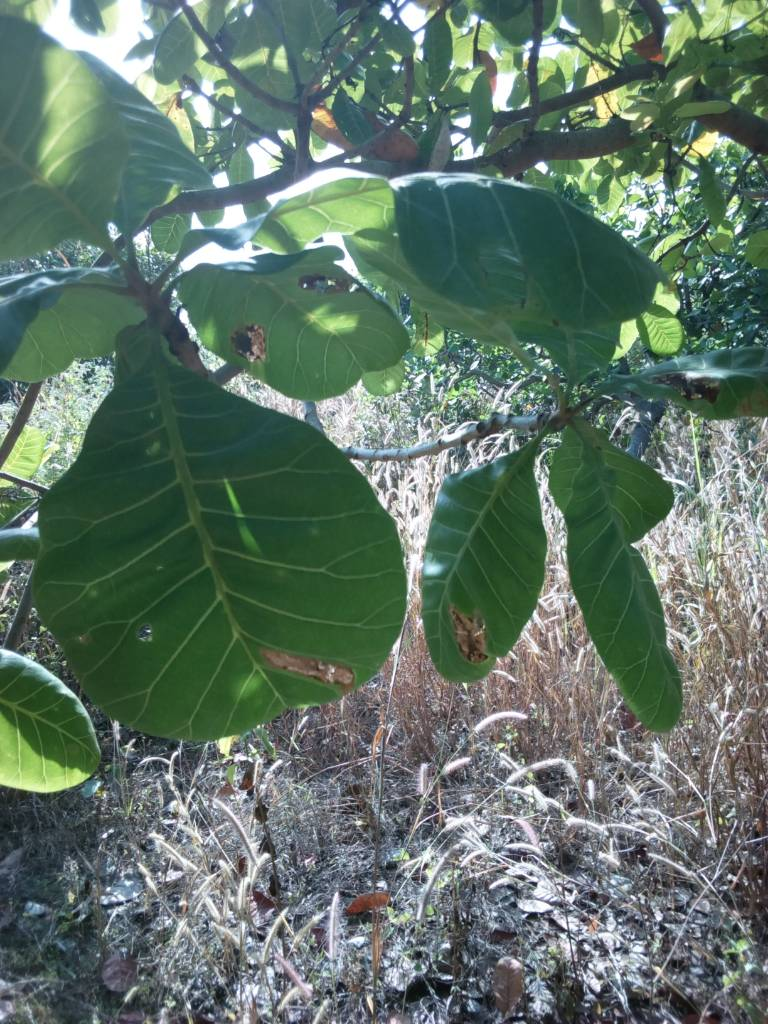Dysdercus wolkerii: (163, 249, 458, 410)
